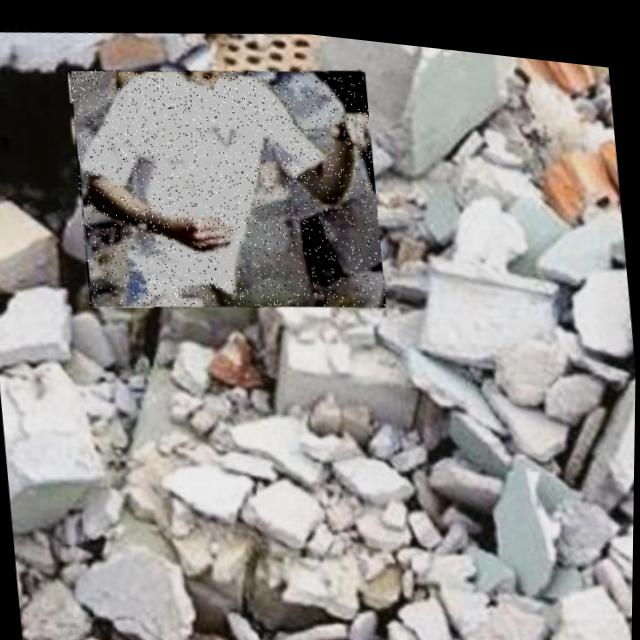Person in Rubble: (65, 36, 389, 330)
